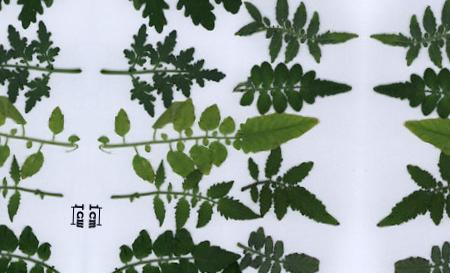Tomato leaf: (235, 109, 320, 159), (191, 98, 229, 140), (105, 102, 137, 142), (150, 100, 184, 137), (172, 100, 200, 136), (129, 150, 159, 183), (164, 152, 199, 179), (207, 138, 231, 170), (193, 143, 217, 175)
